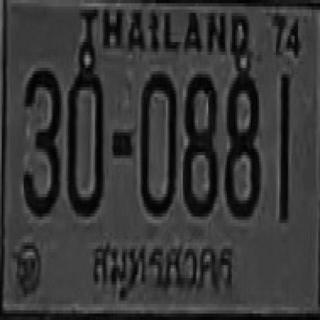N00: (140, 71, 177, 213), (67, 63, 102, 212)
N01: (280, 73, 289, 218)
N03: (22, 65, 59, 213)
N08: (224, 71, 259, 216), (183, 71, 217, 213)
P58: (86, 224, 243, 308)
